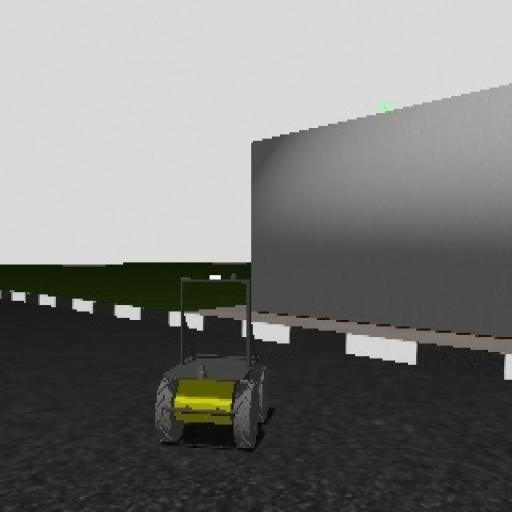huskya200: (139, 260, 285, 474)
